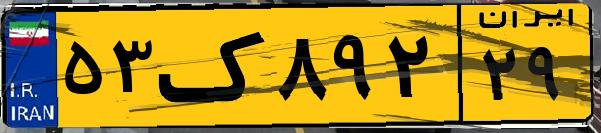2: (385, 28, 445, 110), (475, 38, 525, 113)
3: (110, 28, 158, 98)
5: (57, 26, 110, 100)
8: (270, 28, 330, 110)
9: (330, 28, 385, 110), (525, 38, 570, 115)
ک: (158, 12, 270, 120)
